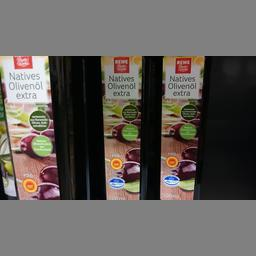oil: (0, 55, 80, 198), (90, 56, 151, 199), (153, 54, 210, 199)
